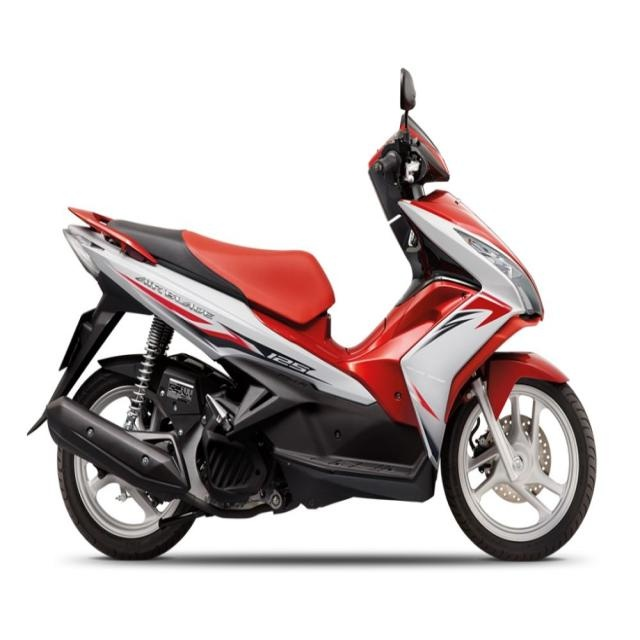Motorcycle: (22, 54, 600, 562)
